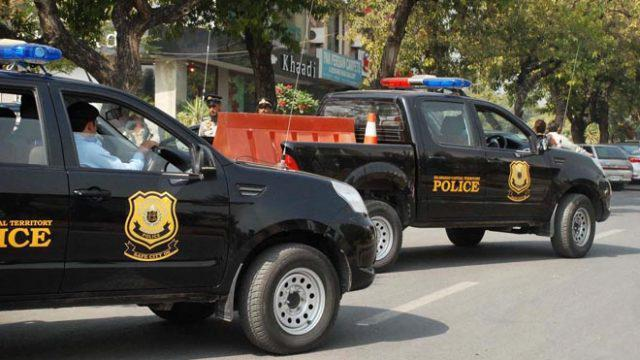police: (1, 20, 379, 355), (353, 50, 613, 261)
